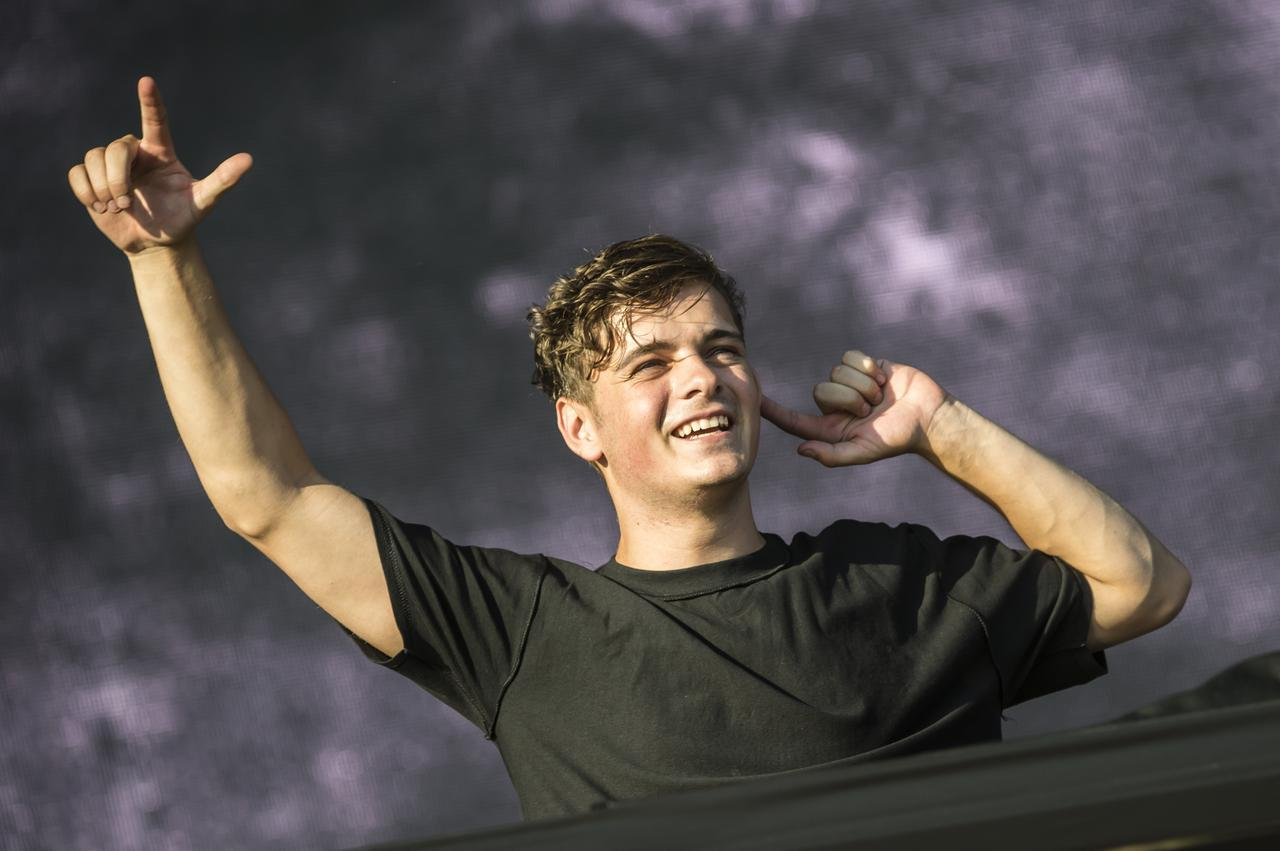face: (553, 276, 759, 496)
hand: (65, 74, 252, 251), (758, 347, 944, 471)
